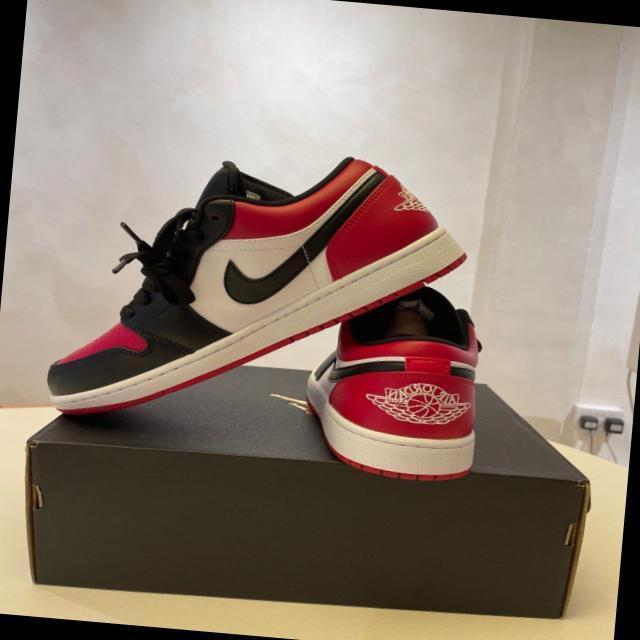nike original jordan 1: (35, 129, 482, 452), (296, 273, 489, 491)
